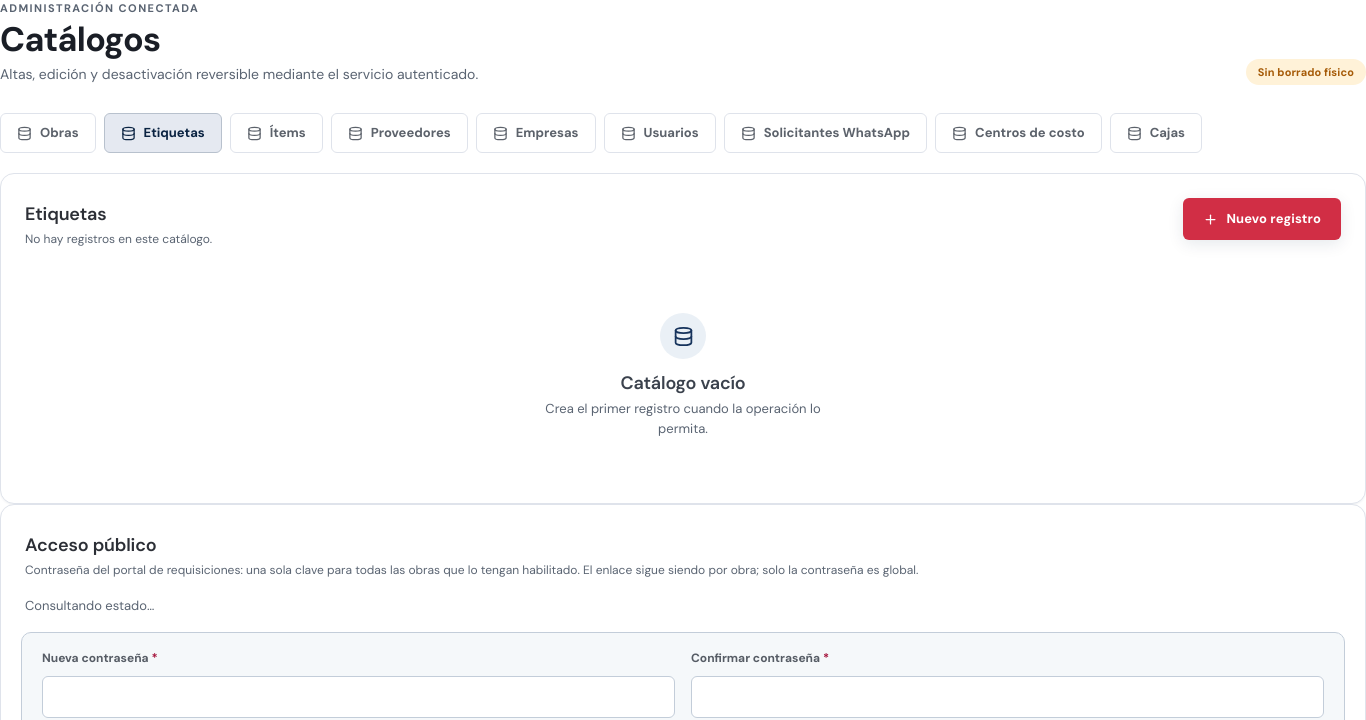
Scenario: ConnectedCatalogAdmin › requires an approver before creating a tag
Click the button "Nuevo registro": click(1262, 220) [1183,198,1341,240]
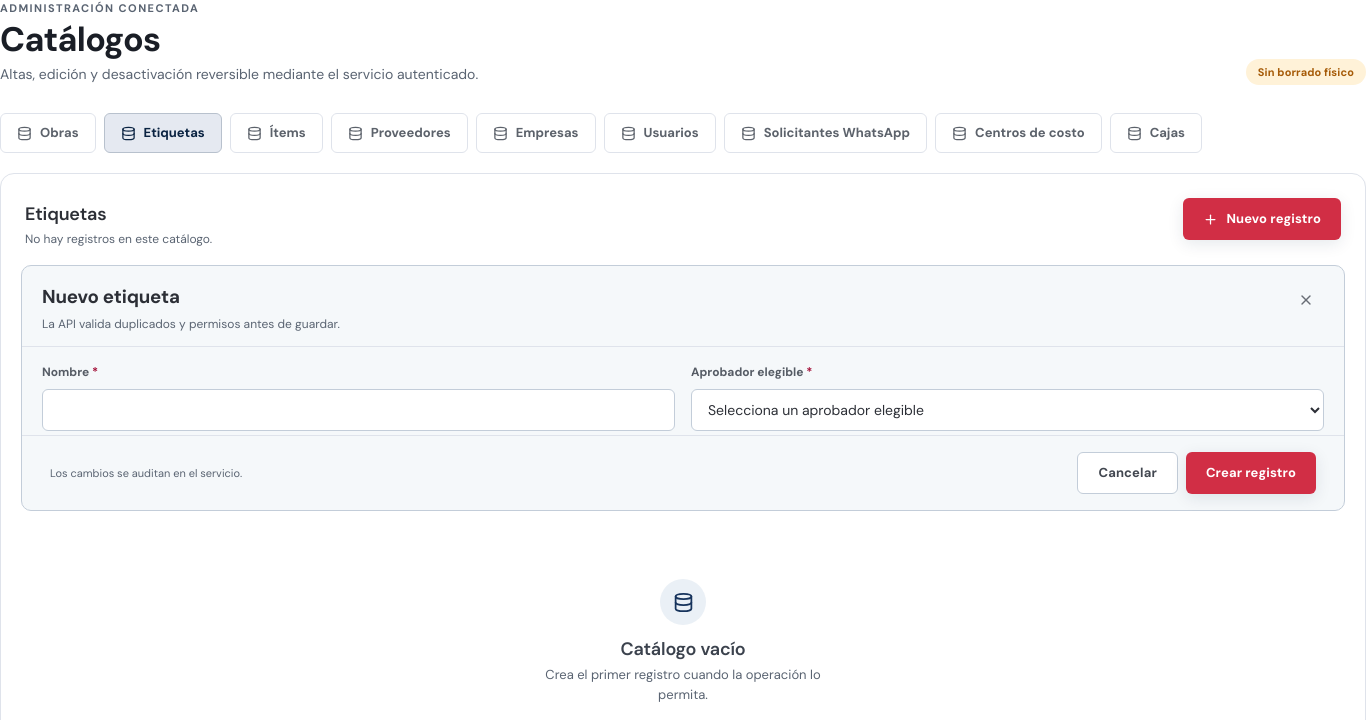
In the field labelled "Nombre *": (358, 410) [42,389,675,431], type "Sin aprobador"
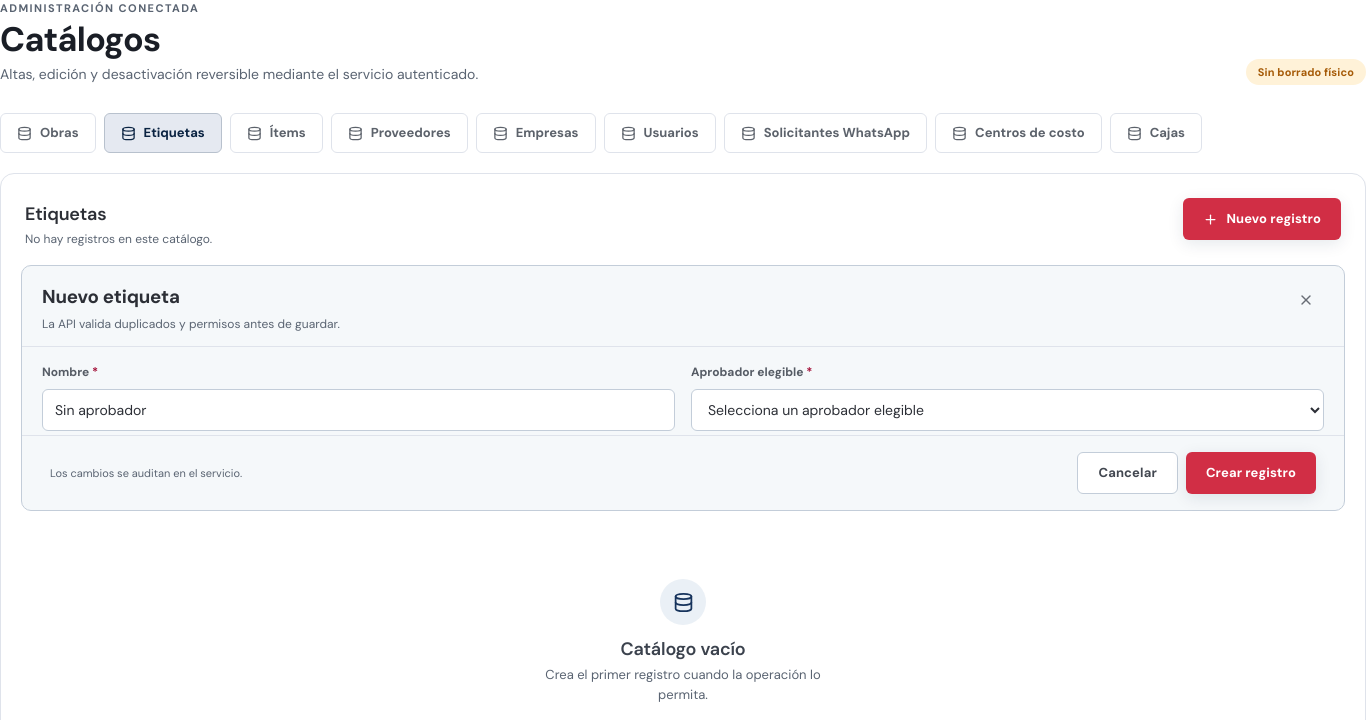
Click the button "Crear registro": click(1251, 473) [1186,452,1316,494]
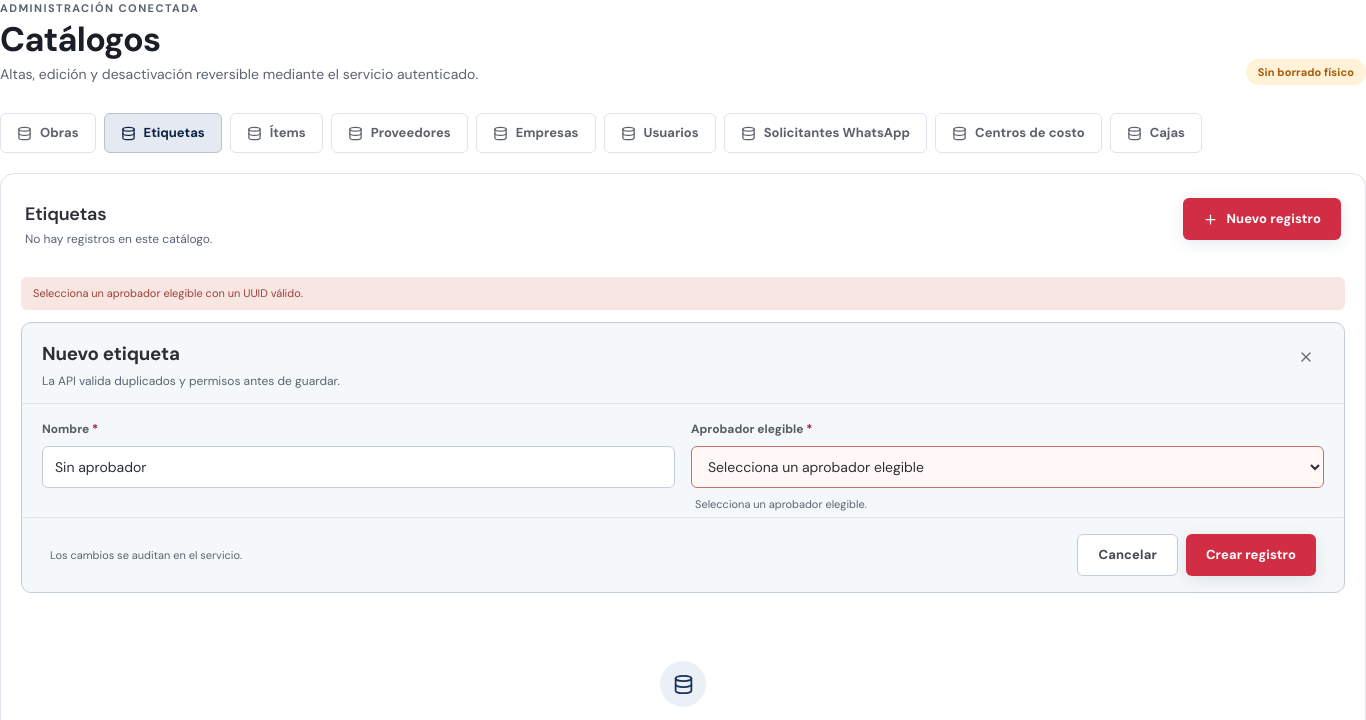
Expected: the message shows "Selecciona un aprobador elegible", [33,286,303,300]
